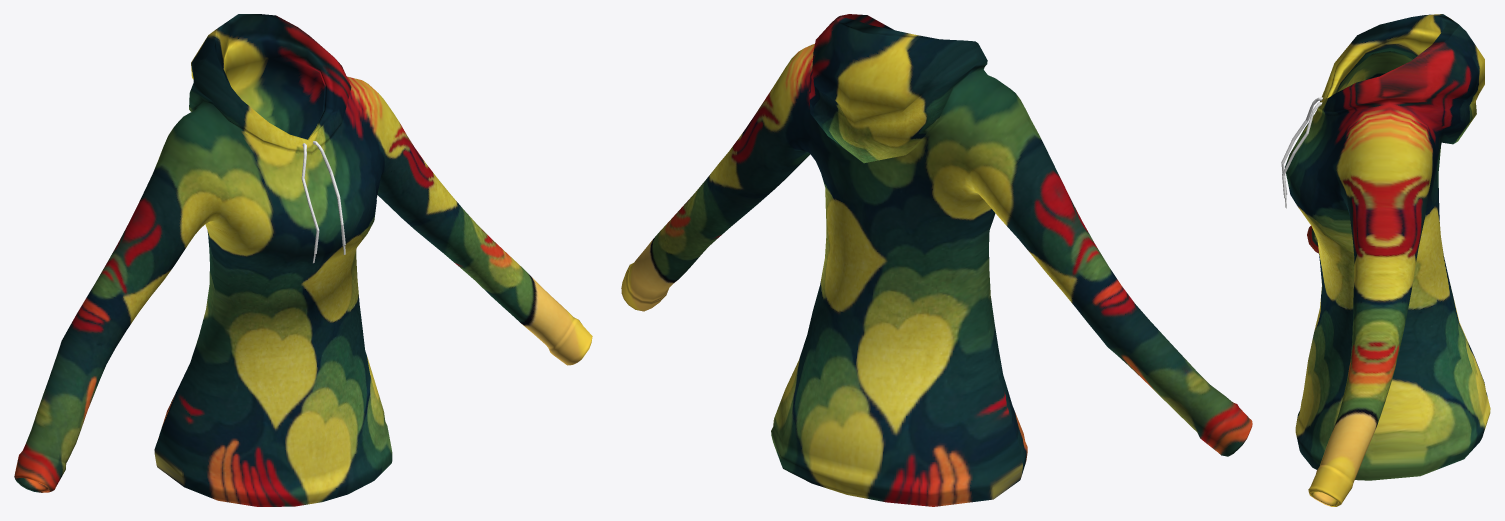
The model's file is NazarovHoodie.fbx.
3 renders of one model, left to right at view 1: azimuth 30°, elevation 25°; view 2: azimuth 150°, elevation 25°; view 3: azimuth 270°, elevation 25°, orthographic. The views are drawn at different scales.
Parts seen in each view (by area): view 1: FNazarovHoodie_00.Base, FNazarovHoodie_00_Strings; view 2: FNazarovHoodie_00.Base; view 3: FNazarovHoodie_00.Base, FNazarovHoodie_00_Strings.
Part boxes in pixels (box(x1,y1,x2,y2)): FNazarovHoodie_00.Base: box(14, 14, 592, 506); FNazarovHoodie_00_Strings: box(301, 141, 345, 263); FNazarovHoodie_00.Base: box(621, 14, 1252, 506); FNazarovHoodie_00.Base: box(1285, 14, 1490, 506); FNazarovHoodie_00_Strings: box(1281, 97, 1322, 208).
Size of the model in its own units: 82.78 by 27.06 by 59.64.
